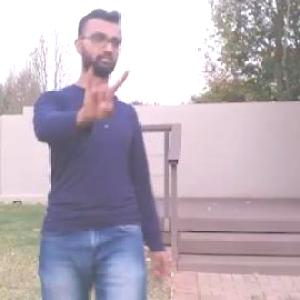takeoff-hand: (76, 57, 134, 122)
